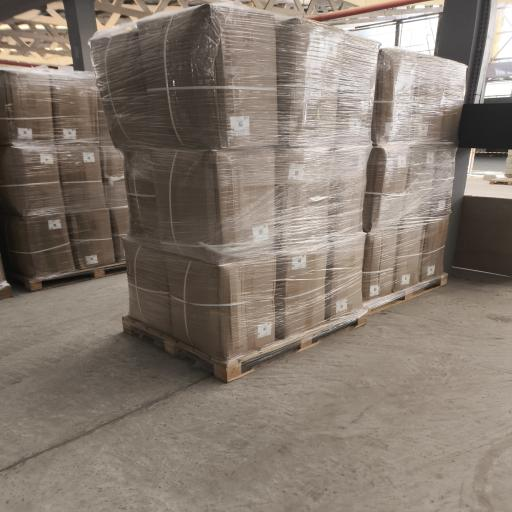pallet: (123, 316, 365, 382), (364, 274, 447, 315), (9, 263, 126, 291), (0, 285, 13, 299), (490, 178, 511, 185)
